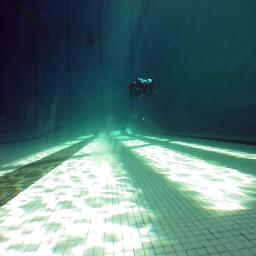Full: (86, 38, 96, 48)
front: (128, 75, 156, 99)
